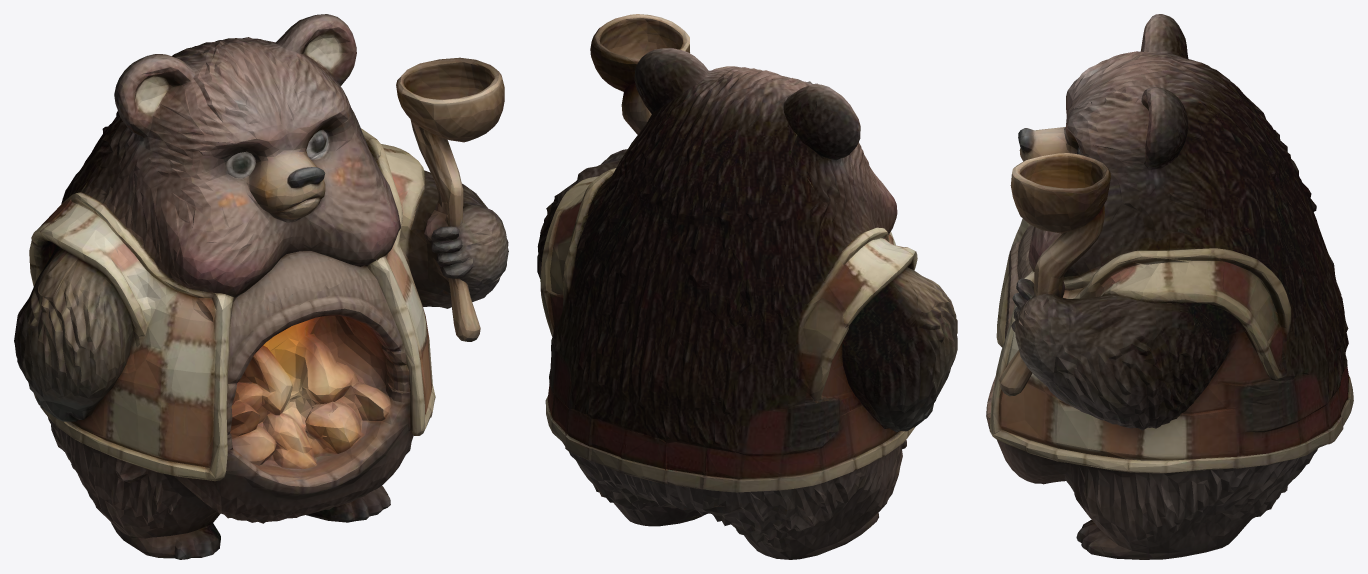
File: hearthkin__emberbelly.glb
The picture shows the model from 3 angles, left to right: view 1: azimuth 30°, elevation 25°; view 2: azimuth 150°, elevation 25°; view 3: azimuth 270°, elevation 25°; orthographic projection. The views are drawn at different scales.
Visible parts, largest first — view 1: world; view 2: world; view 3: world.
Boxes of the visible parts, left/top/right/bottom form: world: left=14, top=14, right=508, bottom=559; world: left=537, top=14, right=957, bottom=559; world: left=986, top=14, right=1353, bottom=559.
Bounding box in the file's own units: 0.9631 × 0.9998 × 0.7398.
Materials: 1 (1 with a texture image).
